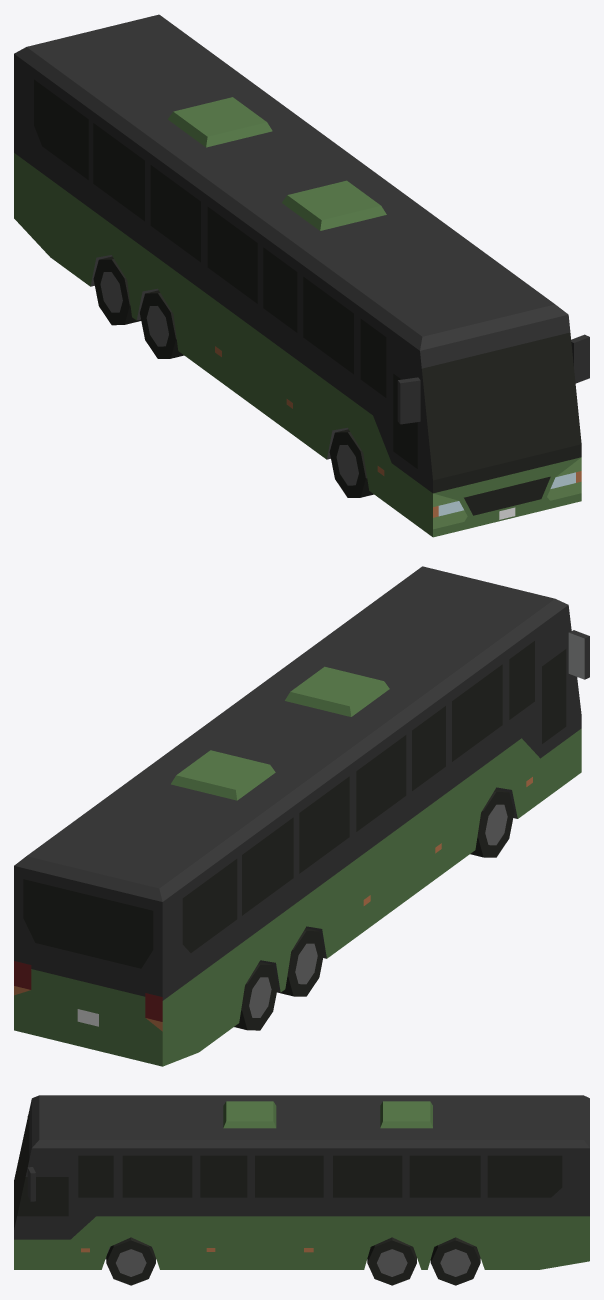
Rendered from Veh_Coach_01_Green.glb.
The picture shows the model from 3 angles, top to bottom: view 1: azimuth 30°, elevation 25°; view 2: azimuth 150°, elevation 25°; view 3: azimuth 270°, elevation 25°; orthographic projection. The views are drawn at different scales.
Parts seen in each view (by area): view 1: Coach_01_Green, Wheel_FR, Wheel_RR2, Wheel_RR1; view 2: Coach_01_Green, Wheel_RR1, Wheel_RR2, Wheel_FR; view 3: Coach_01_Green, Wheel_RL2, Wheel_RL1, Wheel_FL.
Part boxes in pixels (box(x1,y1,x2,y2)): Coach_01_Green: box(14, 14, 589, 537); Wheel_FR: box(329, 429, 373, 497); Wheel_RR2: box(93, 256, 141, 325); Wheel_RR1: box(140, 290, 183, 358); Coach_01_Green: box(14, 566, 589, 1066); Wheel_RR1: box(277, 928, 324, 996); Wheel_RR2: box(234, 962, 278, 1030); Wheel_FR: box(470, 789, 514, 857); Coach_01_Green: box(14, 1095, 589, 1269); Wheel_RL2: box(430, 1237, 480, 1285); Wheel_RL1: box(367, 1237, 416, 1285); Wheel_FL: box(106, 1237, 155, 1285).
Size of the model in its own units: 1.75 by 1.9 by 6.68.
Materials: 1 (1 with a texture image).
